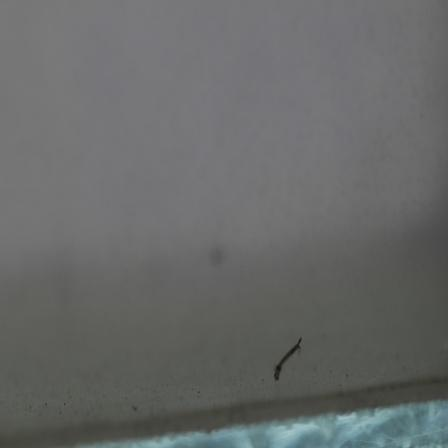Jentik-Nyamuk: (270, 332, 308, 387)
